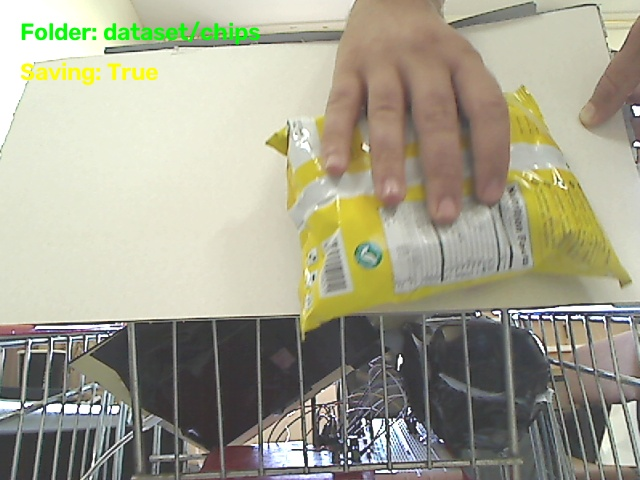chips: (268, 87, 630, 331)
